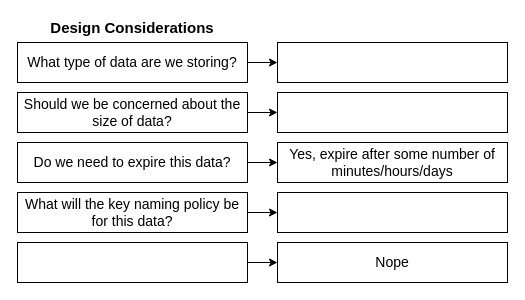
The diagram is 525 pixels wide and 300 high, and some of its shapes have lost their labels. The centre of each missing label's shape, as x and y in pixels:
Any business-logic concerns?: the point at 132,262
Strings: the point at 392,62
YES! Only cache certain pages: the point at 392,112
